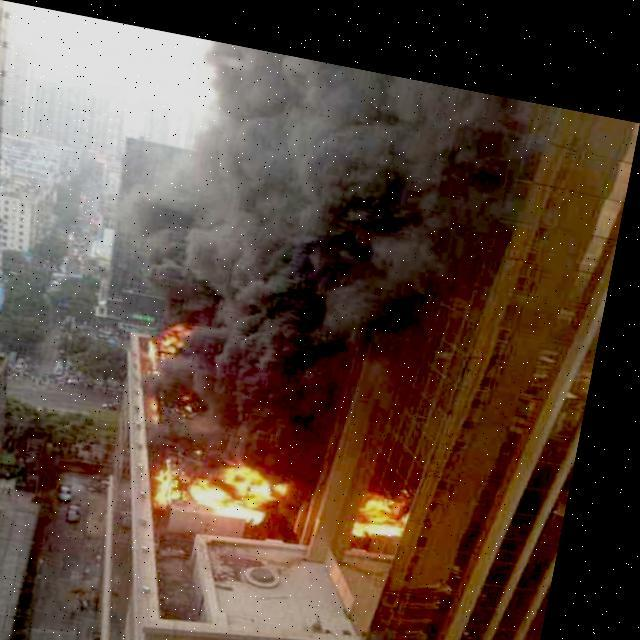Fire: (161, 436, 296, 518), (363, 468, 429, 532), (151, 306, 209, 368)
